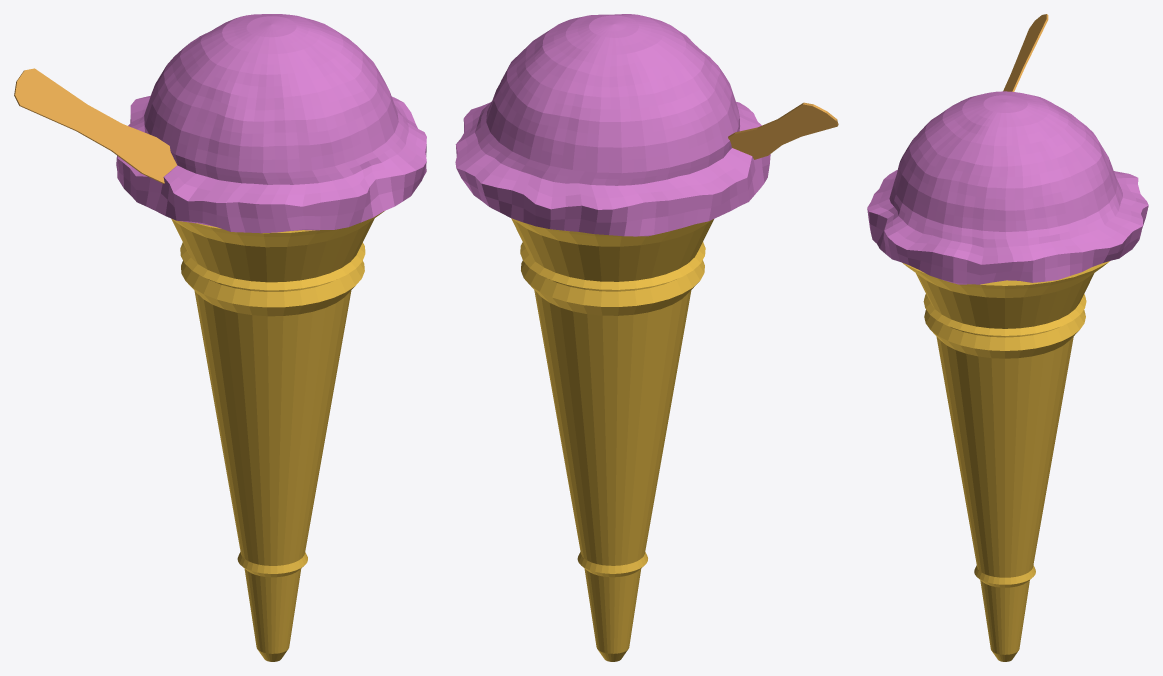
Rendered from ice_spoon.glb.
The picture shows the model from 3 angles, left to right: view 1: azimuth 30°, elevation 25°; view 2: azimuth 150°, elevation 25°; view 3: azimuth 270°, elevation 25°; orthographic projection. The views are drawn at different scales.
Visible parts, largest first — view 1: ice, corn, 平面; view 2: ice, corn, 平面; view 3: ice, corn, 平面.
Boxes of the visible parts, x1,y1,x2,y2 form: ice: (116,14,426,233); corn: (171,211,384,661); 平面: (14,68,176,183); ice: (455,14,770,236); corn: (511,218,713,661); 平面: (728,102,838,159); ice: (867,91,1148,284); corn: (902,261,1109,661); 平面: (1003,14,1048,91).
Bounding box in the file's own units: 2.35 × 3.77 × 1.73.
